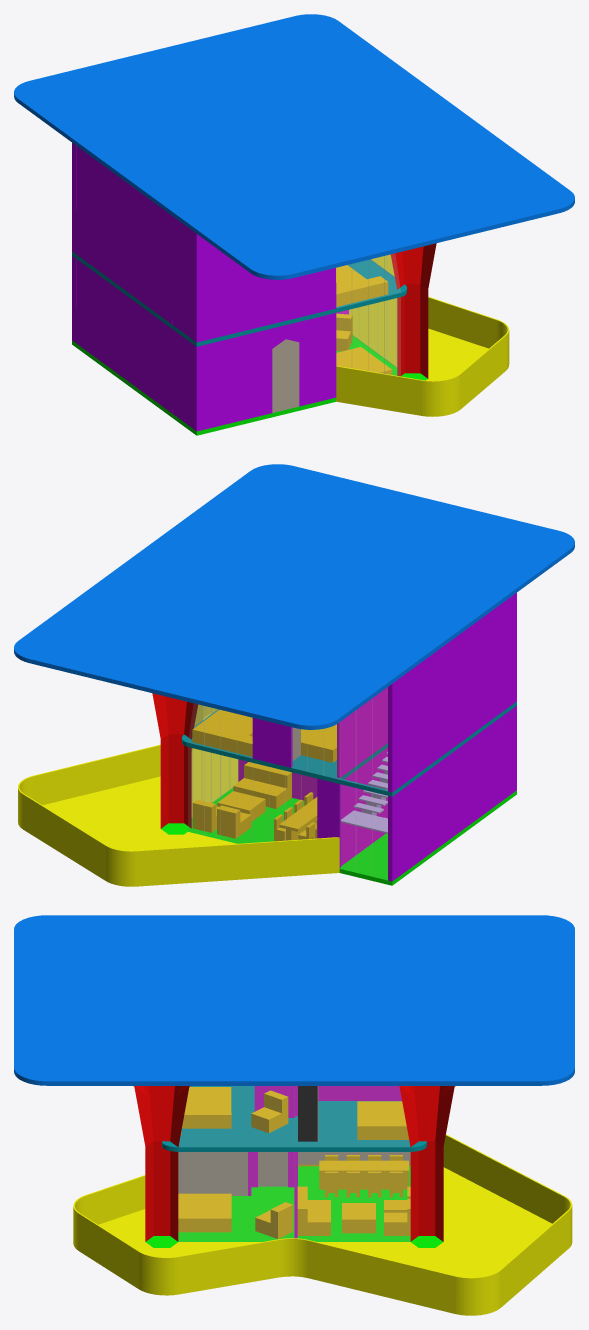
The model's file is ROOM7.glb.
3 renders of one model, top to bottom at view 1: azimuth 30°, elevation 25°; view 2: azimuth 150°, elevation 25°; view 3: azimuth 270°, elevation 25°, orthographic. The views are drawn at different scales.
Visible parts, largest first — view 1: top slabs, external walls, balconies, glasses, columns, furniture, bottom slabs, DOORS, floors; view 2: top slabs, external walls, balconies, glasses, furniture, internal walls, columns, floors, bottom slabs, STAIRCASE; view 3: top slabs, balconies, glasses, furniture, columns, bottom slabs, floors, internal walls, object 9, DOORS.
Part boxes in pixels (x1,y1,x2,y2): top slabs: (14,14,574,279); external walls: (72,143,336,431); balconies: (336,254,509,416); glasses: (336,254,400,375); columns: (390,243,436,378); furniture: (336,265,392,374); bottom slabs: (72,251,406,346); DOORS: (272,339,299,412); floors: (72,335,427,435); top slabs: (14,464,574,729); external walls: (252,593,516,881); balconies: (18,704,339,886); glasses: (188,687,387,879); furniture: (192,709,336,841); internal walls: (238,687,387,865); columns: (152,693,198,828); floors: (161,788,516,885); bottom slabs: (182,701,516,796); STAIRCASE: (341,752,387,833); top slabs: (14,915,574,1085); balconies: (73,1134,572,1315); glasses: (178,1086,410,1241); furniture: (178,1086,410,1238); columns: (133,1086,455,1241); bottom slabs: (162,1086,426,1151); floors: (146,1166,442,1247); internal walls: (178,1086,401,1238); object 9: (298,1086,317,1141); DOORS: (258,1152,287,1186).
Bounding box in the file's own units: 12.95 × 7.3 × 16.93.
